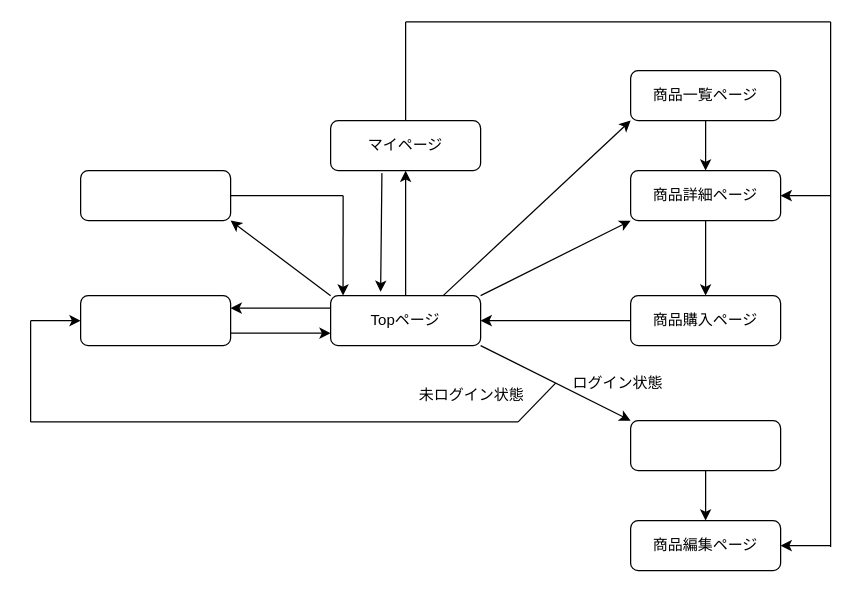
Some shapes in this 863 by 593 pixel diagram are drawn without their labels. The shapes that lost their labels are listed below. From the top down, each one's centre as x and y in pixels, then its label:
At (x=155, y=195): "新規会員登録ページ".
At (x=155, y=320): "サインインページ".
At (x=705, y=445): "商品出品ページ".
